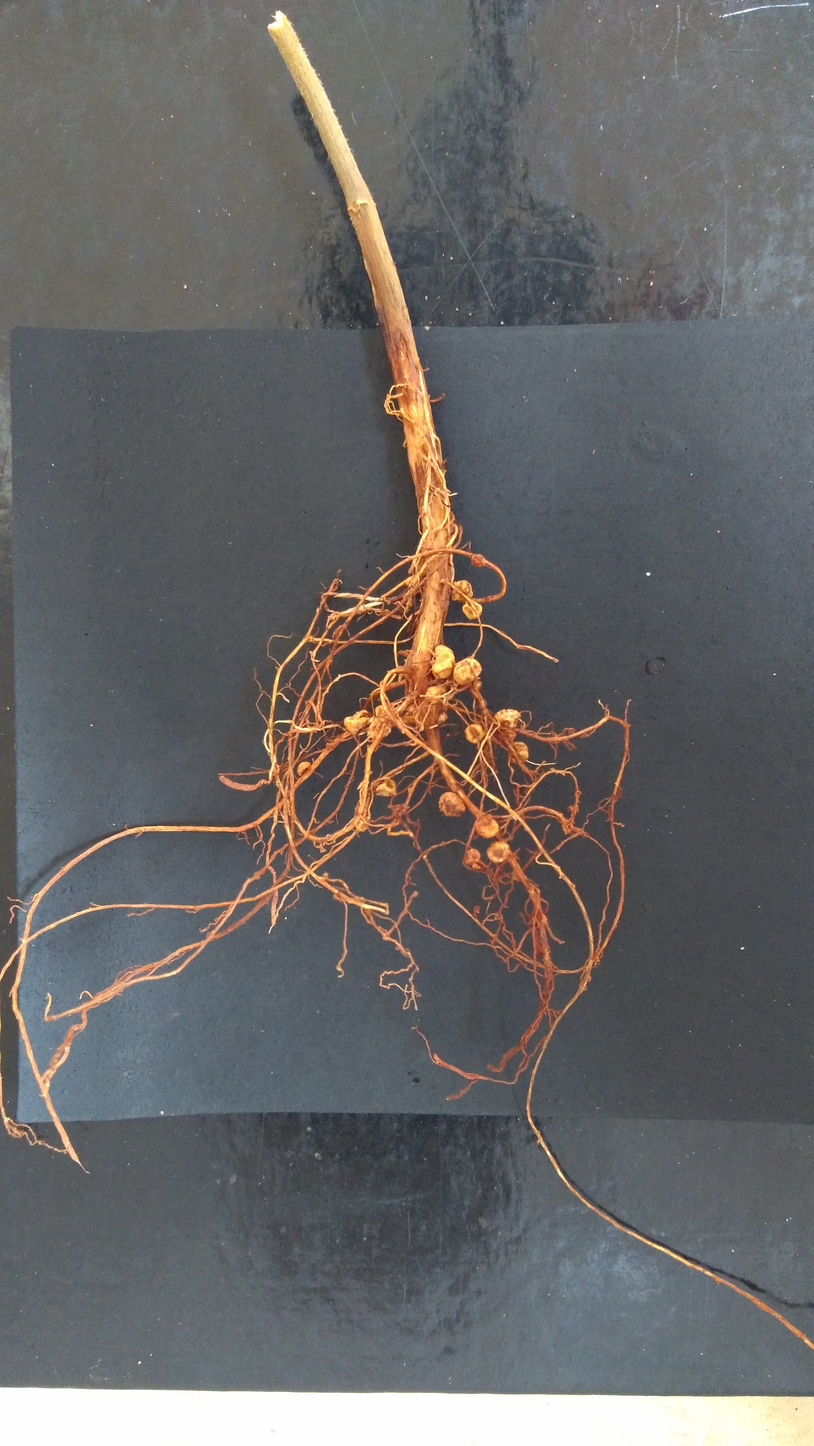nodule: (429, 642, 457, 681), (452, 654, 483, 687), (437, 790, 467, 819), (342, 708, 372, 735), (473, 812, 500, 839), (493, 706, 523, 730), (449, 578, 475, 604), (485, 840, 512, 864), (366, 717, 392, 741), (508, 740, 530, 766), (464, 720, 486, 745), (424, 684, 448, 706), (461, 599, 484, 621), (374, 777, 398, 798), (497, 726, 517, 745), (352, 814, 370, 832), (469, 552, 487, 568), (464, 847, 482, 863), (295, 760, 311, 776), (372, 704, 387, 718), (436, 712, 450, 726)
